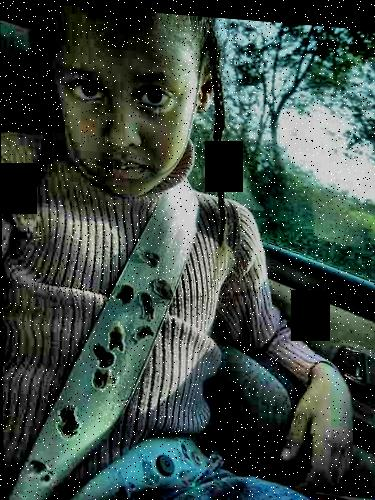seatbelt: (27, 173, 211, 500)
